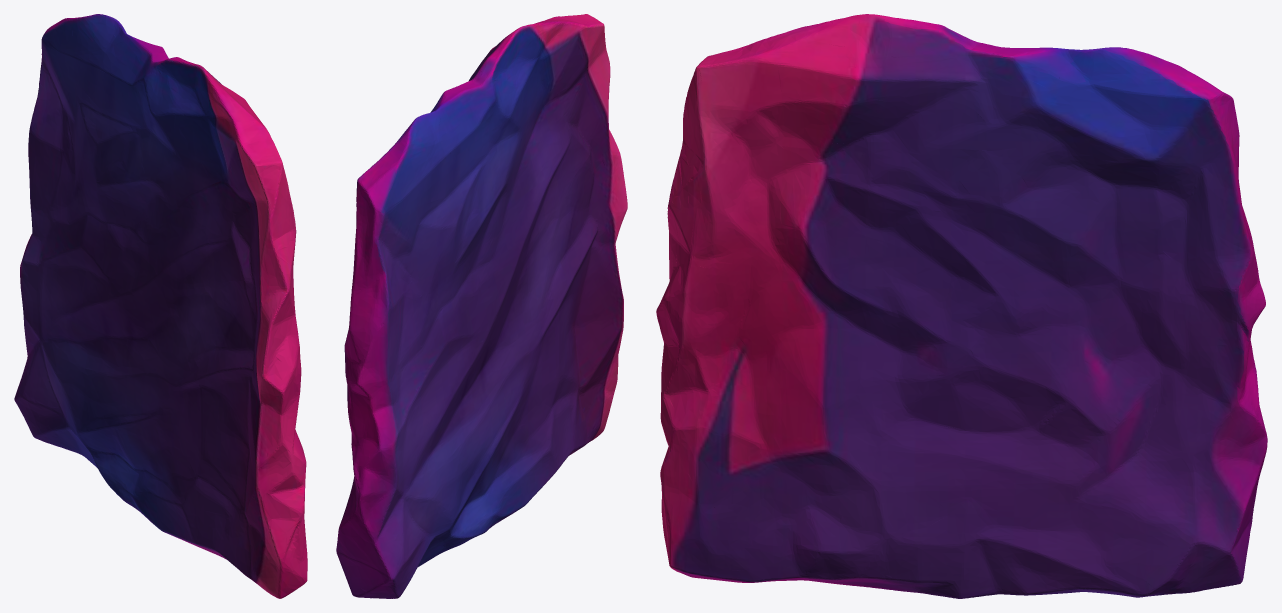
File: RIFT-WALL.glb
The picture shows the model from 3 angles, left to right: view 1: azimuth 30°, elevation 25°; view 2: azimuth 150°, elevation 25°; view 3: azimuth 270°, elevation 25°; orthographic projection. The views are drawn at different scales.
Visible parts, largest first — view 1: RIFT-WALL; view 2: RIFT-WALL; view 3: RIFT-WALL.
Part boxes in pixels (box(x1,y1,x2,y2)): RIFT-WALL: box(14, 14, 307, 598); RIFT-WALL: box(336, 14, 627, 598); RIFT-WALL: box(656, 14, 1267, 598).
Bounding box in the file's own units: 0.3584 × 1.99 × 1.97.
Materials: 1 (1 with a texture image).
